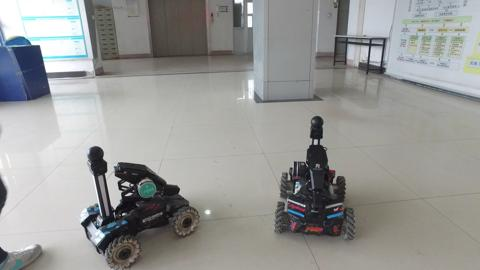chariot: (65, 151, 201, 270), (271, 110, 361, 242)
